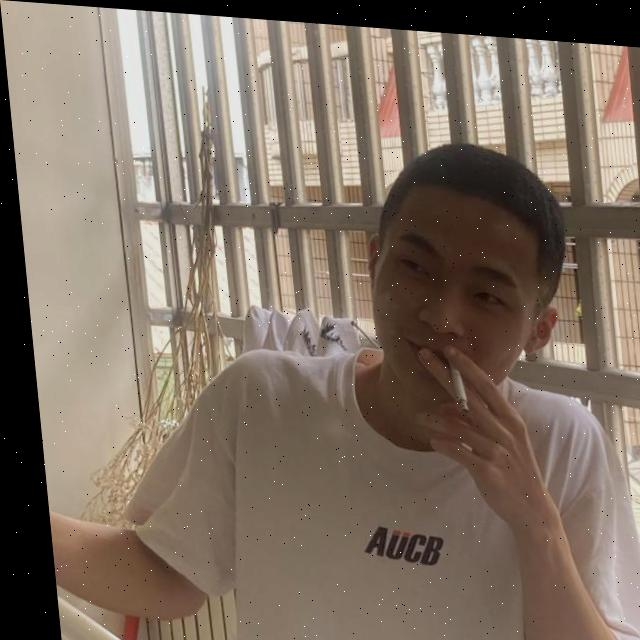cigarette: (443, 358, 461, 403)
